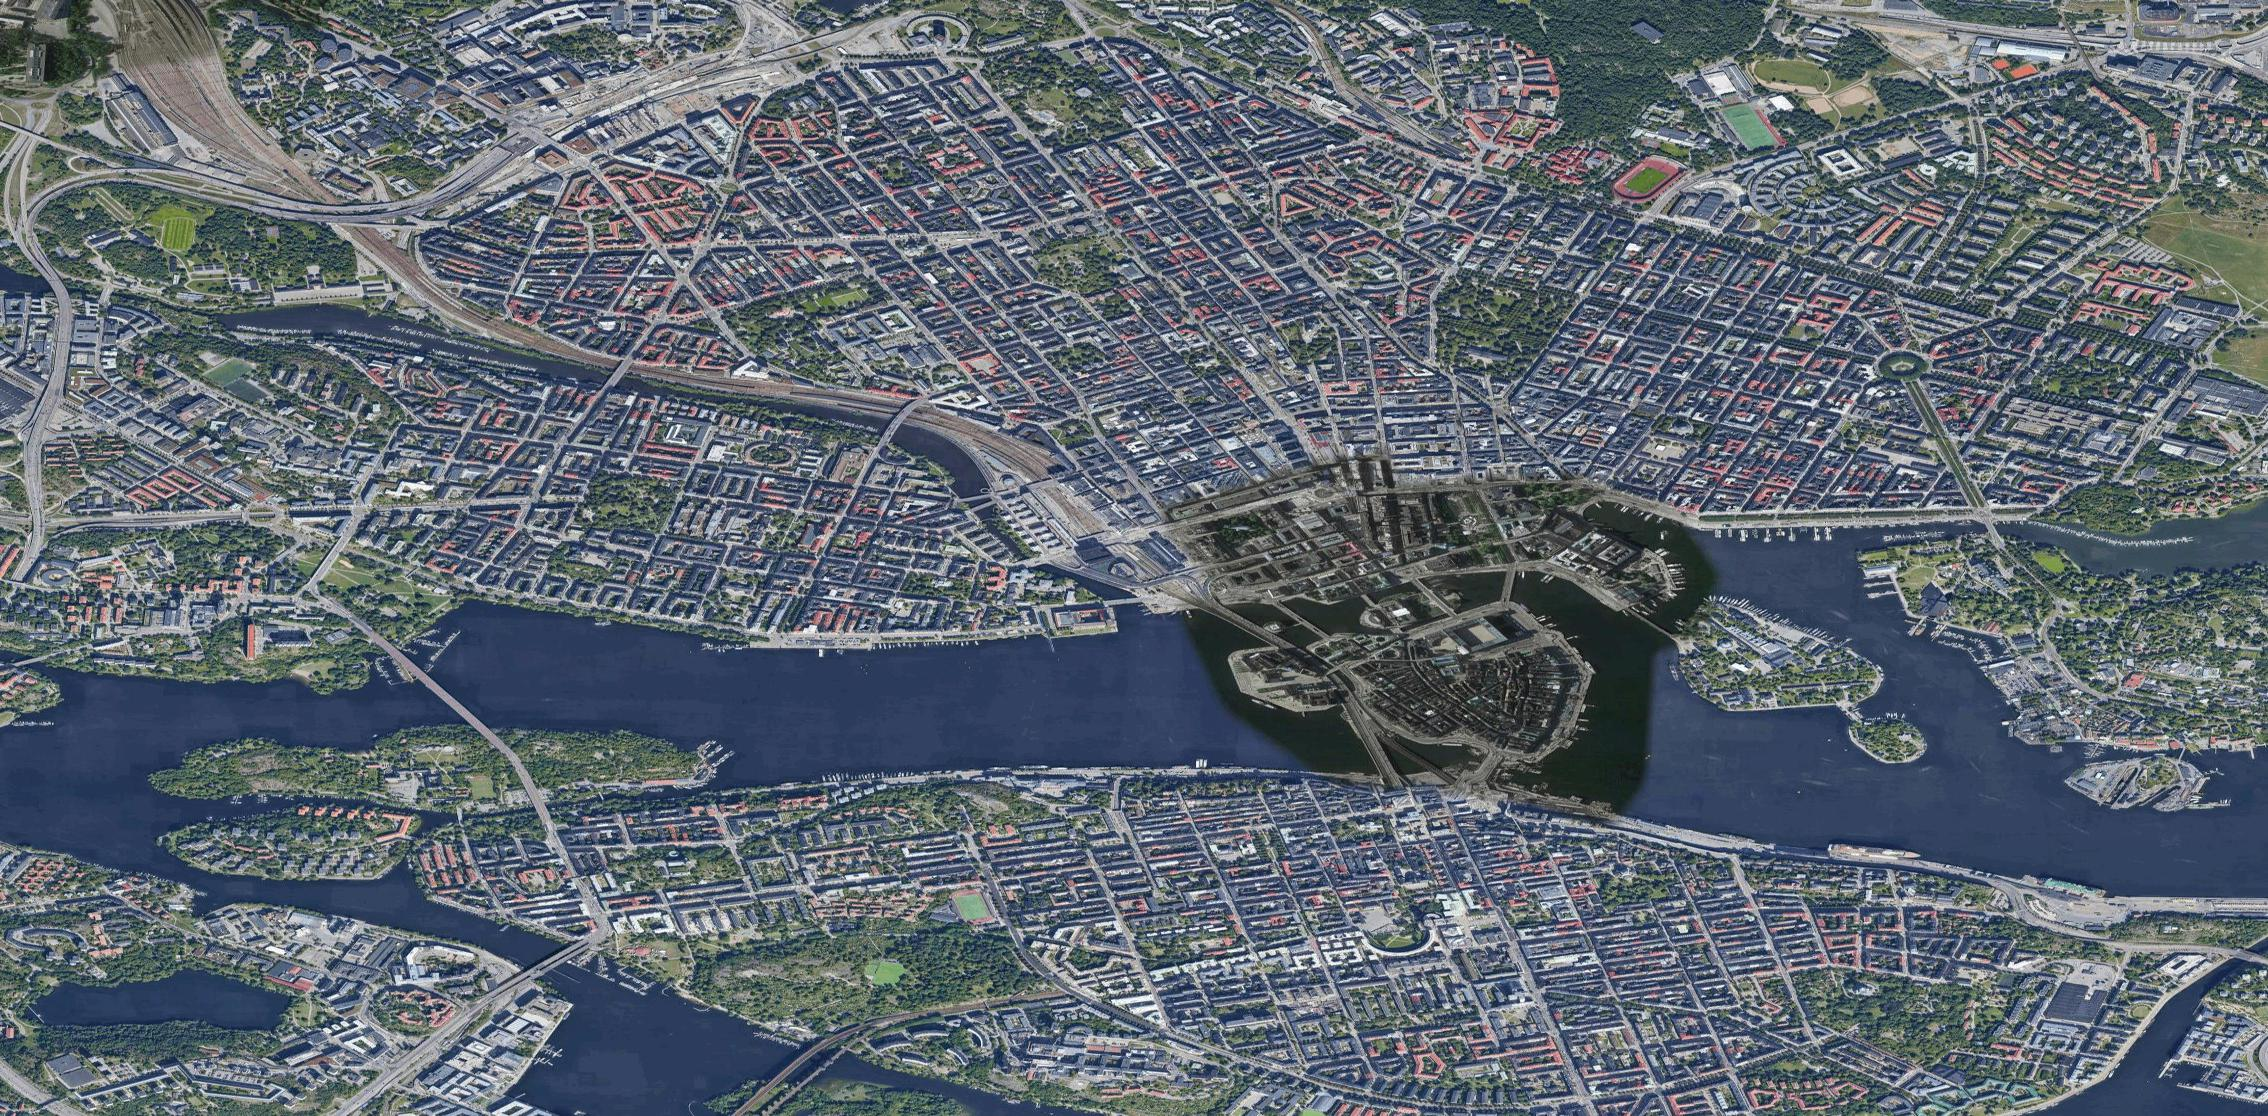bridge: (378, 638, 506, 742), (1344, 688, 1400, 784), (767, 1034, 849, 1089), (1206, 594, 1287, 649), (521, 934, 581, 984), (1412, 572, 1457, 619), (1467, 752, 1509, 791), (1633, 611, 1681, 643), (38, 267, 74, 305), (2230, 935, 2265, 971), (1494, 562, 1520, 606), (884, 400, 905, 447), (602, 360, 631, 393), (1986, 518, 2006, 545)
harbor: (1556, 484, 2015, 668), (2016, 734, 2256, 843), (699, 629, 1088, 666), (807, 755, 1208, 781), (505, 1041, 605, 1116), (573, 945, 681, 1013)
train_station: (1010, 464, 1173, 588)
